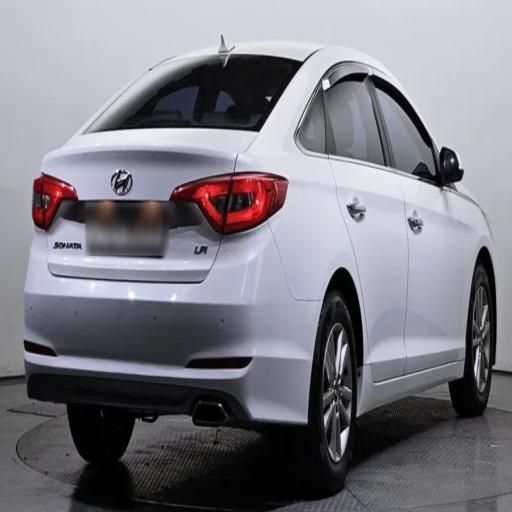normal: (22, 6, 508, 494)
